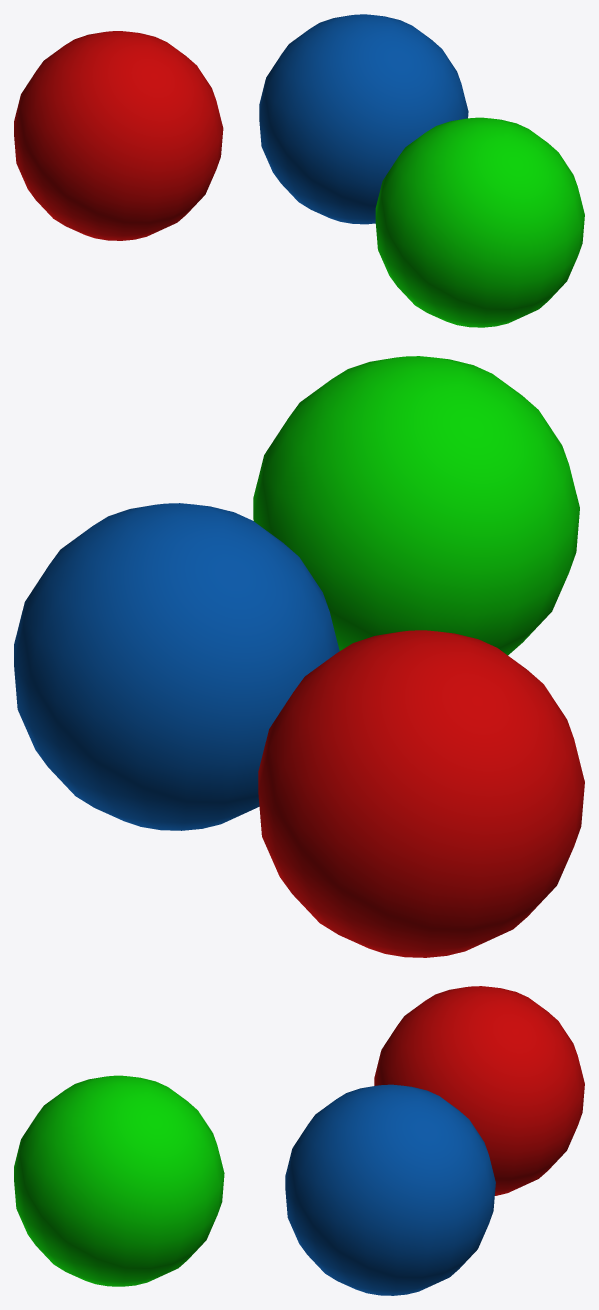
File: Balls.FBX
The picture shows the model from 3 angles, top to bottom: view 1: azimuth 30°, elevation 25°; view 2: azimuth 150°, elevation 25°; view 3: azimuth 270°, elevation 25°; orthographic projection. The views are drawn at different scales.
Visible parts, largest first — view 1: Ball 3, Ball 1, Ball 2; view 2: Ball 1, Ball 2, Ball 3; view 3: Ball 3, Ball 2, Ball 1.
Boxes of the visible parts, x1,y1,x2,y2 form: Ball 3: (375, 117, 584, 327); Ball 1: (14, 31, 223, 240); Ball 2: (259, 14, 468, 224); Ball 1: (258, 630, 584, 957); Ball 2: (14, 503, 339, 830); Ball 3: (253, 356, 579, 655); Ball 3: (14, 1075, 224, 1286); Ball 2: (285, 1084, 495, 1295); Ball 1: (374, 986, 584, 1195).
Bounding box in the file's own units: 21.1 × 10.08 × 27.11.
